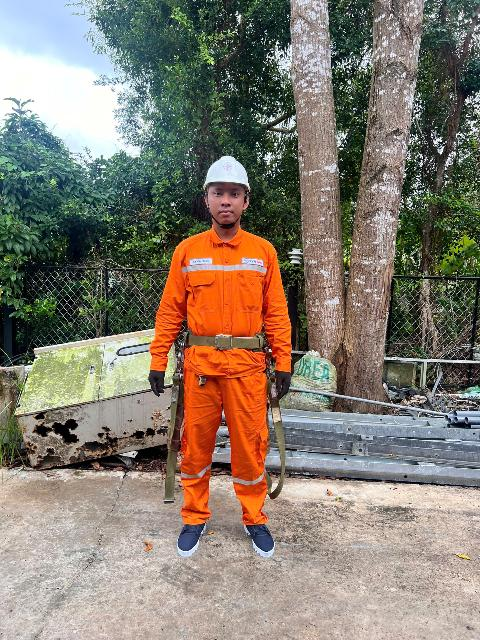gloves: (132, 355, 172, 392), (262, 365, 297, 405)
harness: (158, 317, 271, 357)
helmet: (195, 151, 255, 205)
shoes: (161, 504, 210, 563), (237, 508, 285, 559)
